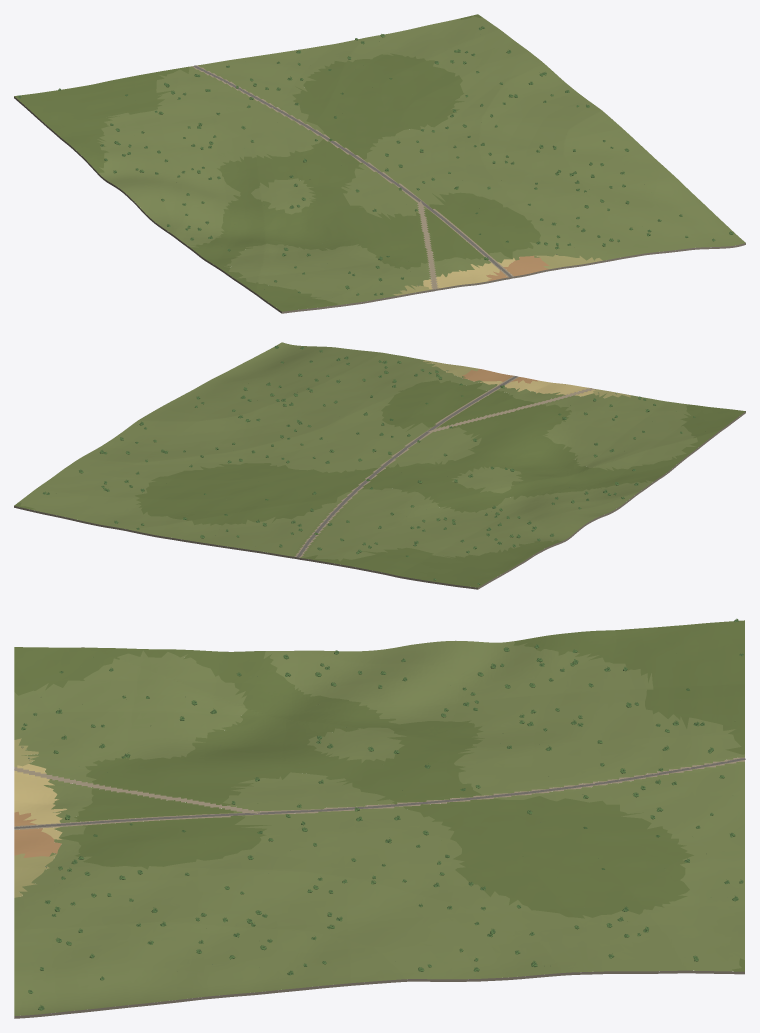
The model's file is parca_+11_-5-yakin.glb.
3 renders of one model, top to bottom at view 1: azimuth 30°, elevation 25°; view 2: azimuth 150°, elevation 25°; view 3: azimuth 270°, elevation 25°, orthographic. The views are drawn at different scales.
Parts seen in each view (by area): view 1: parca_+11_-5_arazi, parca_+11_-5_bitkiler, parca_+11_-5_yollar; view 2: parca_+11_-5_arazi, parca_+11_-5_bitkiler, parca_+11_-5_yollar; view 3: parca_+11_-5_arazi, parca_+11_-5_bitkiler, parca_+11_-5_yollar.
Part boxes in pixels (x1=…): parca_+11_-5_arazi: x1=14, y1=14, x2=745, y2=313; parca_+11_-5_bitkiler: x1=18, y1=26, x2=733, y2=295; parca_+11_-5_yollar: x1=193, y1=65, x2=511, y2=288; parca_+11_-5_arazi: x1=14, y1=342, x2=745, y2=589; parca_+11_-5_bitkiler: x1=42, y1=345, x2=698, y2=584; parca_+11_-5_yollar: x1=296, y1=376, x2=592, y2=557; parca_+11_-5_arazi: x1=14, y1=620, x2=744, y2=1018; parca_+11_-5_bitkiler: x1=21, y1=618, x2=743, y2=1010; parca_+11_-5_yollar: x1=14, y1=758, x2=745, y2=828.
Size of the model in its own units: 1000 by 141 by 1002.
